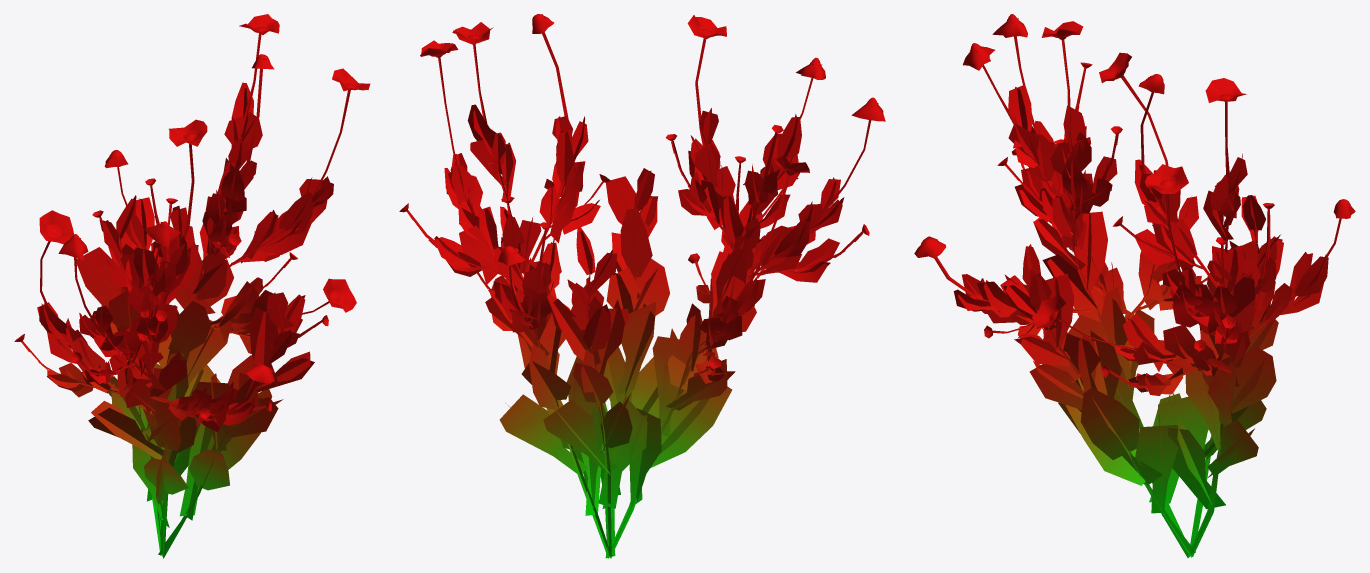
Rendered from Chamomile_LOD1_Var1_ujcnejvja.fbx.
3 renders of one model, left to right at view 1: azimuth 30°, elevation 25°; view 2: azimuth 150°, elevation 25°; view 3: azimuth 270°, elevation 25°, orthographic. The views are drawn at different scales.
Parts seen in each view (by area): view 1: _xp5b_Var1_LOD1; view 2: _xp5b_Var1_LOD1; view 3: _xp5b_Var1_LOD1.
Boxes of the visible parts, x1,y1,x2,y2 form: _xp5b_Var1_LOD1: (14,14,370,558); _xp5b_Var1_LOD1: (399,14,885,558); _xp5b_Var1_LOD1: (914,14,1355,557).
Bounding box in the file's own units: 48.46 × 60.74 × 45.63.
